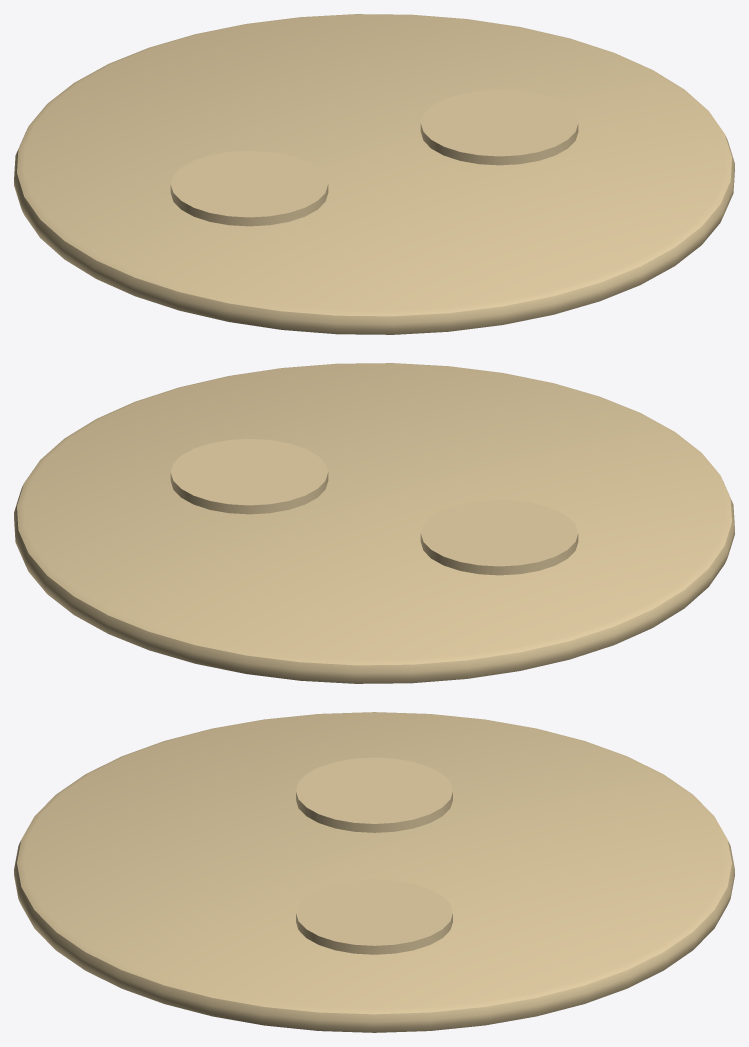
Rendered from floor_box.glb.
The picture shows the model from 3 angles, top to bottom: view 1: azimuth 30°, elevation 25°; view 2: azimuth 150°, elevation 25°; view 3: azimuth 270°, elevation 25°; orthographic projection.
Parts seen in each view (by area): view 1: FloorBox; view 2: FloorBox; view 3: FloorBox.
Part boxes in pixels (left/top/right/bottom): FloorBox: left=14, top=14, right=734, bottom=334; FloorBox: left=14, top=363, right=734, bottom=683; FloorBox: left=14, top=712, right=734, bottom=1032.
Bounding box in the file's own units: 0.11 × 0.0055 × 0.11.
